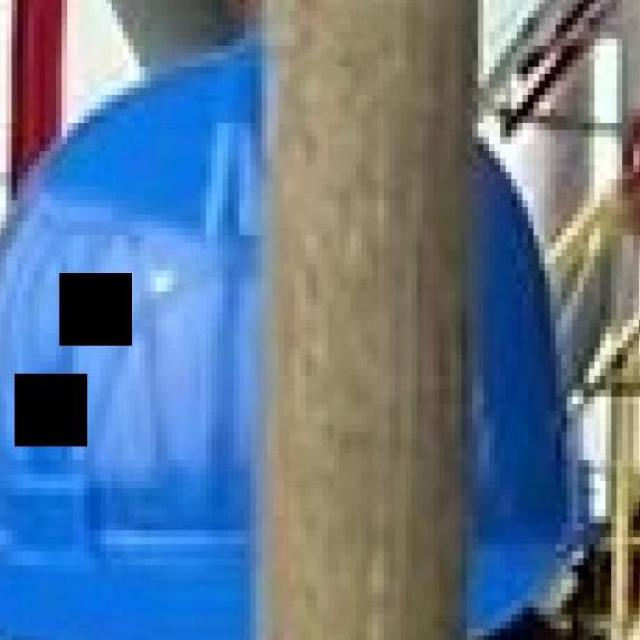blue helmet: (8, 40, 577, 640)
